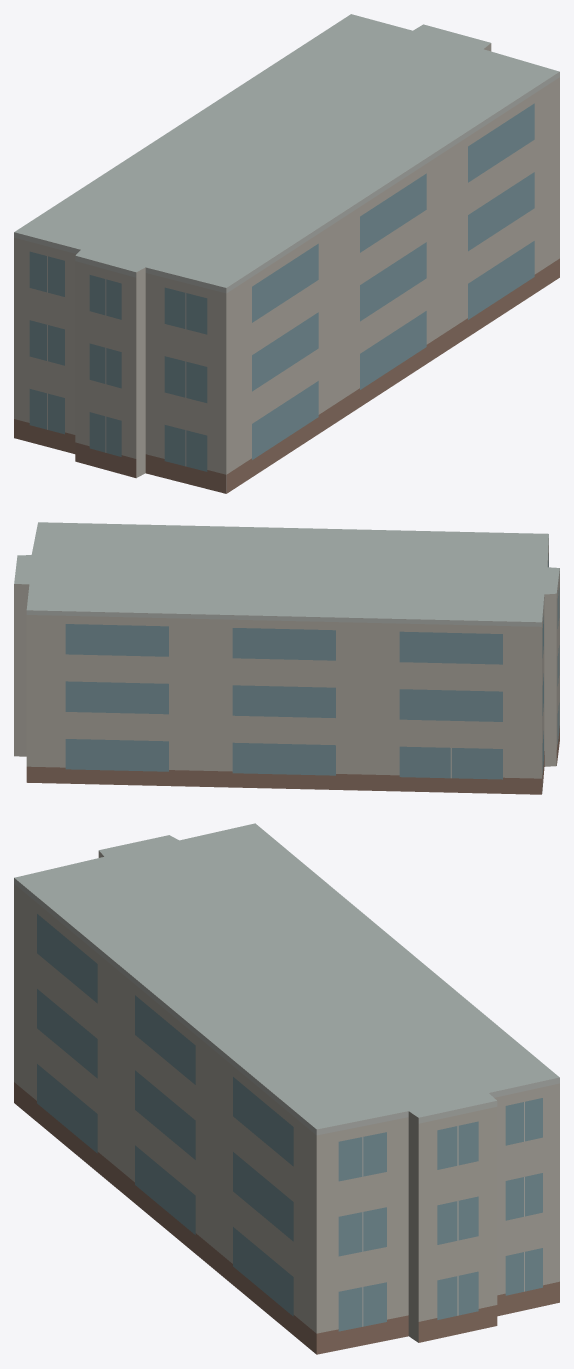
Rendered from survey-upis-32840389.glb.
The picture shows the model from 3 angles, top to bottom: view 1: azimuth 30°, elevation 25°; view 2: azimuth 150°, elevation 25°; view 3: azimuth 270°, elevation 25°; orthographic projection. The views are drawn at different scales.
Visible parts, largest first — view 1: survey-upis-32840389.tmp; view 2: survey-upis-32840389.tmp; view 3: survey-upis-32840389.tmp.
Boxes of the visible parts, x1,y1,x2,y2 form: survey-upis-32840389.tmp: [14, 14, 559, 493]; survey-upis-32840389.tmp: [14, 522, 559, 794]; survey-upis-32840389.tmp: [14, 823, 559, 1354].
Size of the model in its own units: 26.7 by 9.15 by 20.11.
